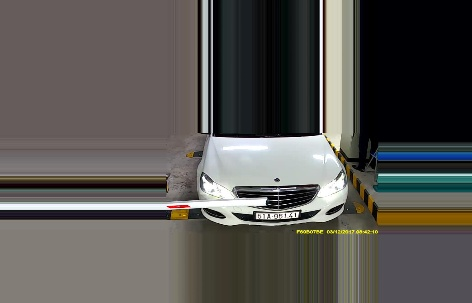plate: (250, 208, 301, 223)
